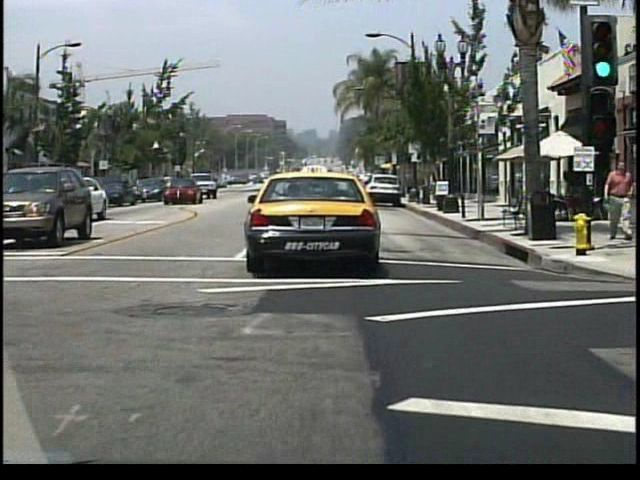person: (601, 160, 632, 240)
